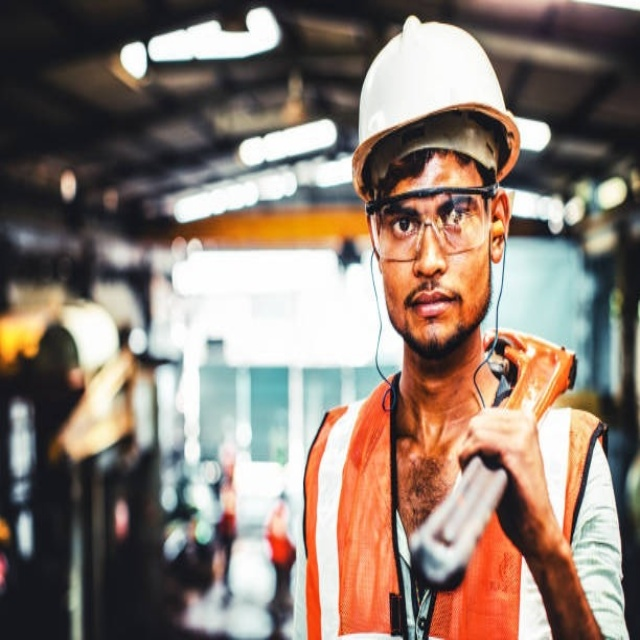Gafas: (366, 191, 492, 262)
Sin_guantes: (455, 402, 553, 533)
Sin_mascara: (399, 278, 459, 334)
